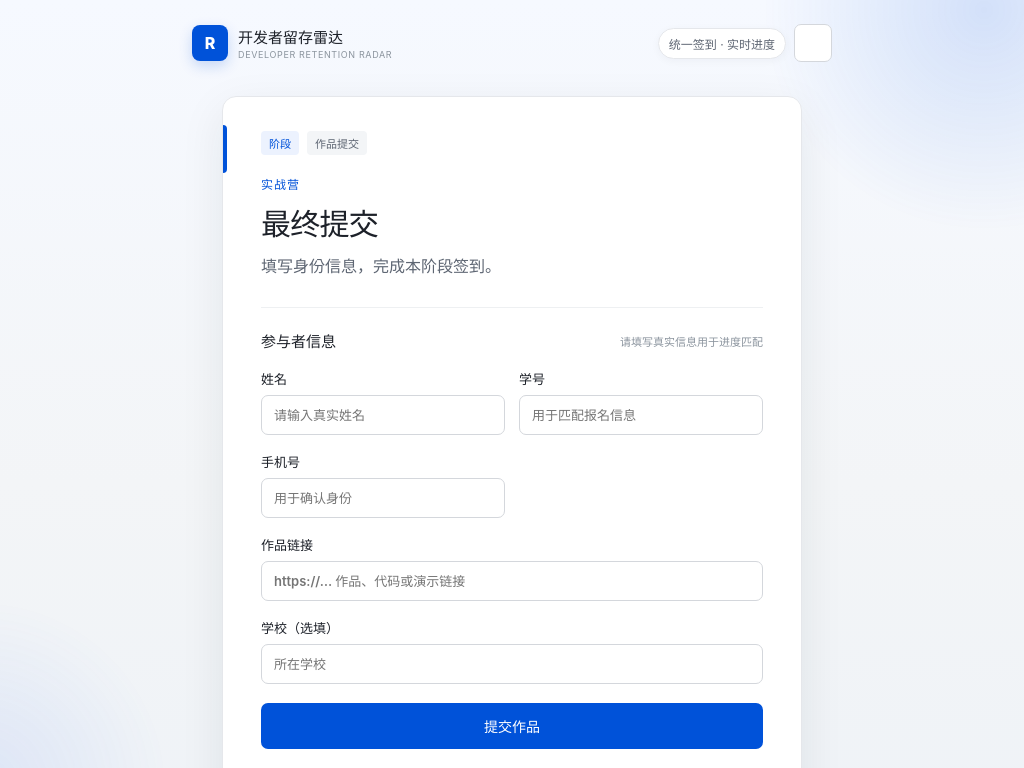
Test: participant check-in › collects a work URL for a submission stage
The image size is (1024, 768).
Check: the heading "最终提交" is shown, box [261, 206, 378, 242]
Step 1. Type "张三" into the field with placeholder "请输入真实姓名" → (383, 415), box [261, 395, 505, 435]
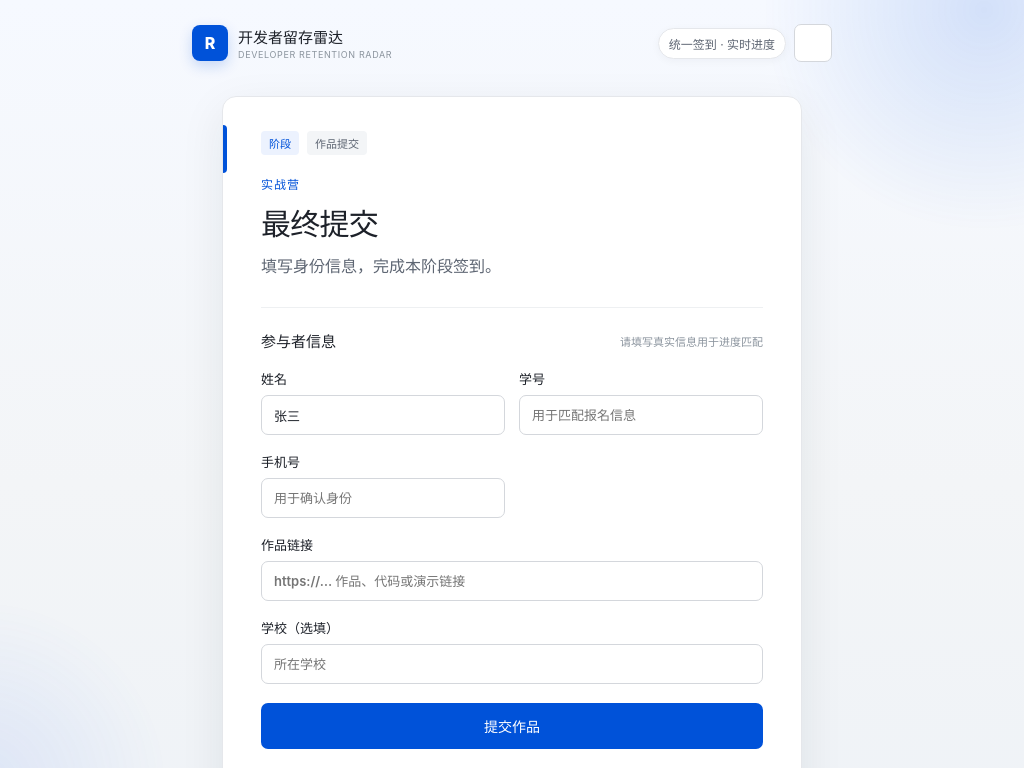
Step 2. Type "2026001" into the field with placeholder "用于匹配报名信息" → (641, 415), box [519, 395, 763, 435]
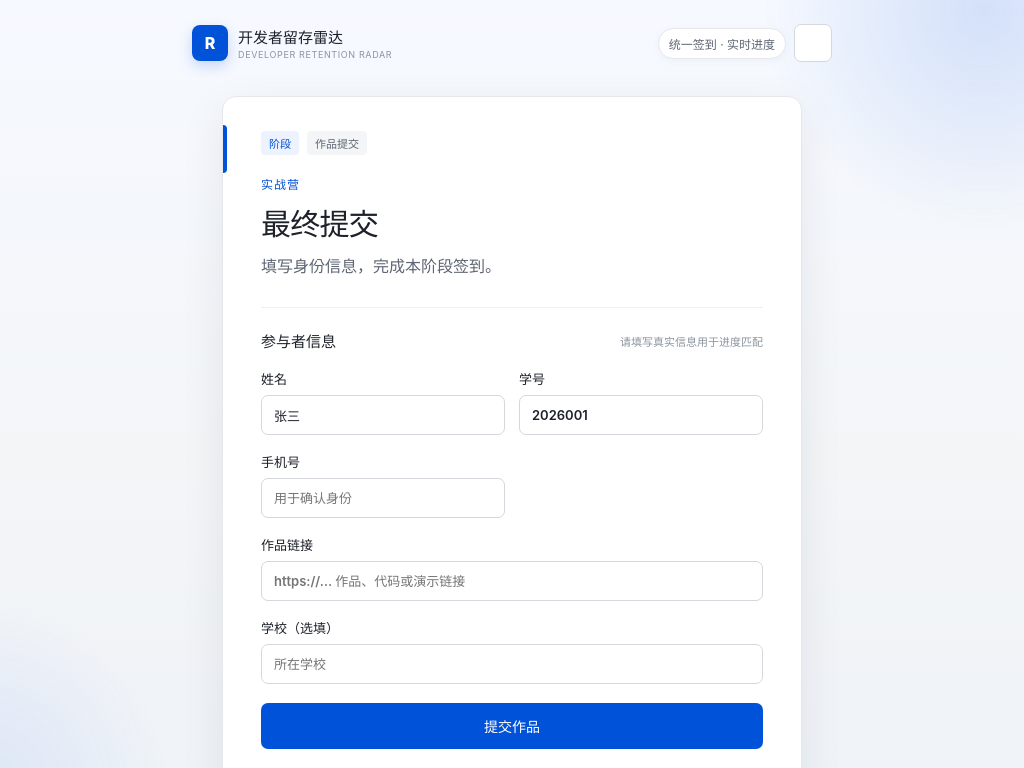
Step 3. Type "13800138000" into the field with placeholder "用于确认身份" → (383, 498), box [261, 478, 505, 518]
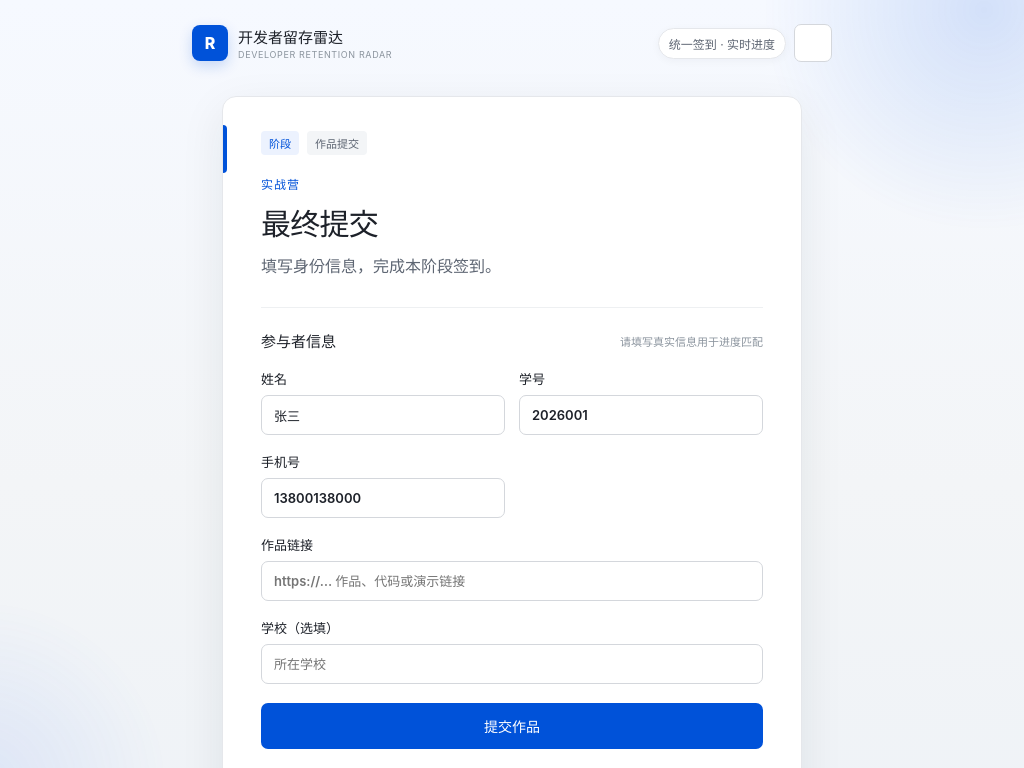
Step 4. Type "https://example.com/work" into the field with placeholder "https://… 作品、代码或演示链接" → (512, 581), box [261, 561, 763, 601]
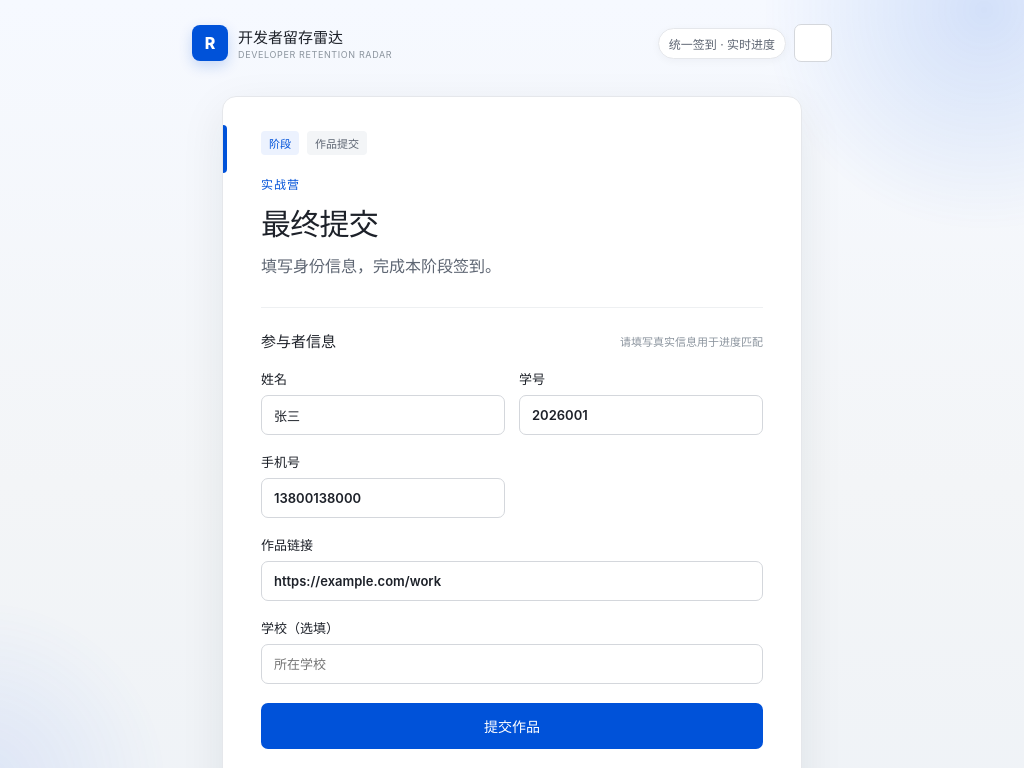
Step 5. Click the button "提交作品" → (512, 726), box [261, 703, 763, 749]
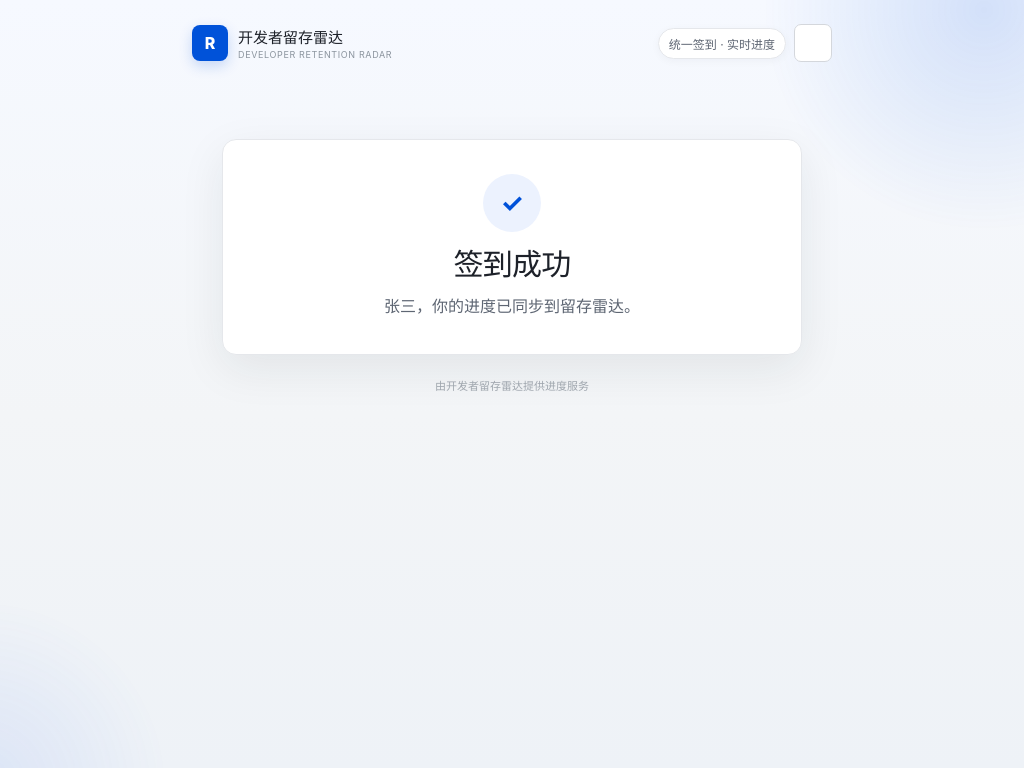
Check: the heading "签到成功" is shown, box [454, 246, 570, 282]
